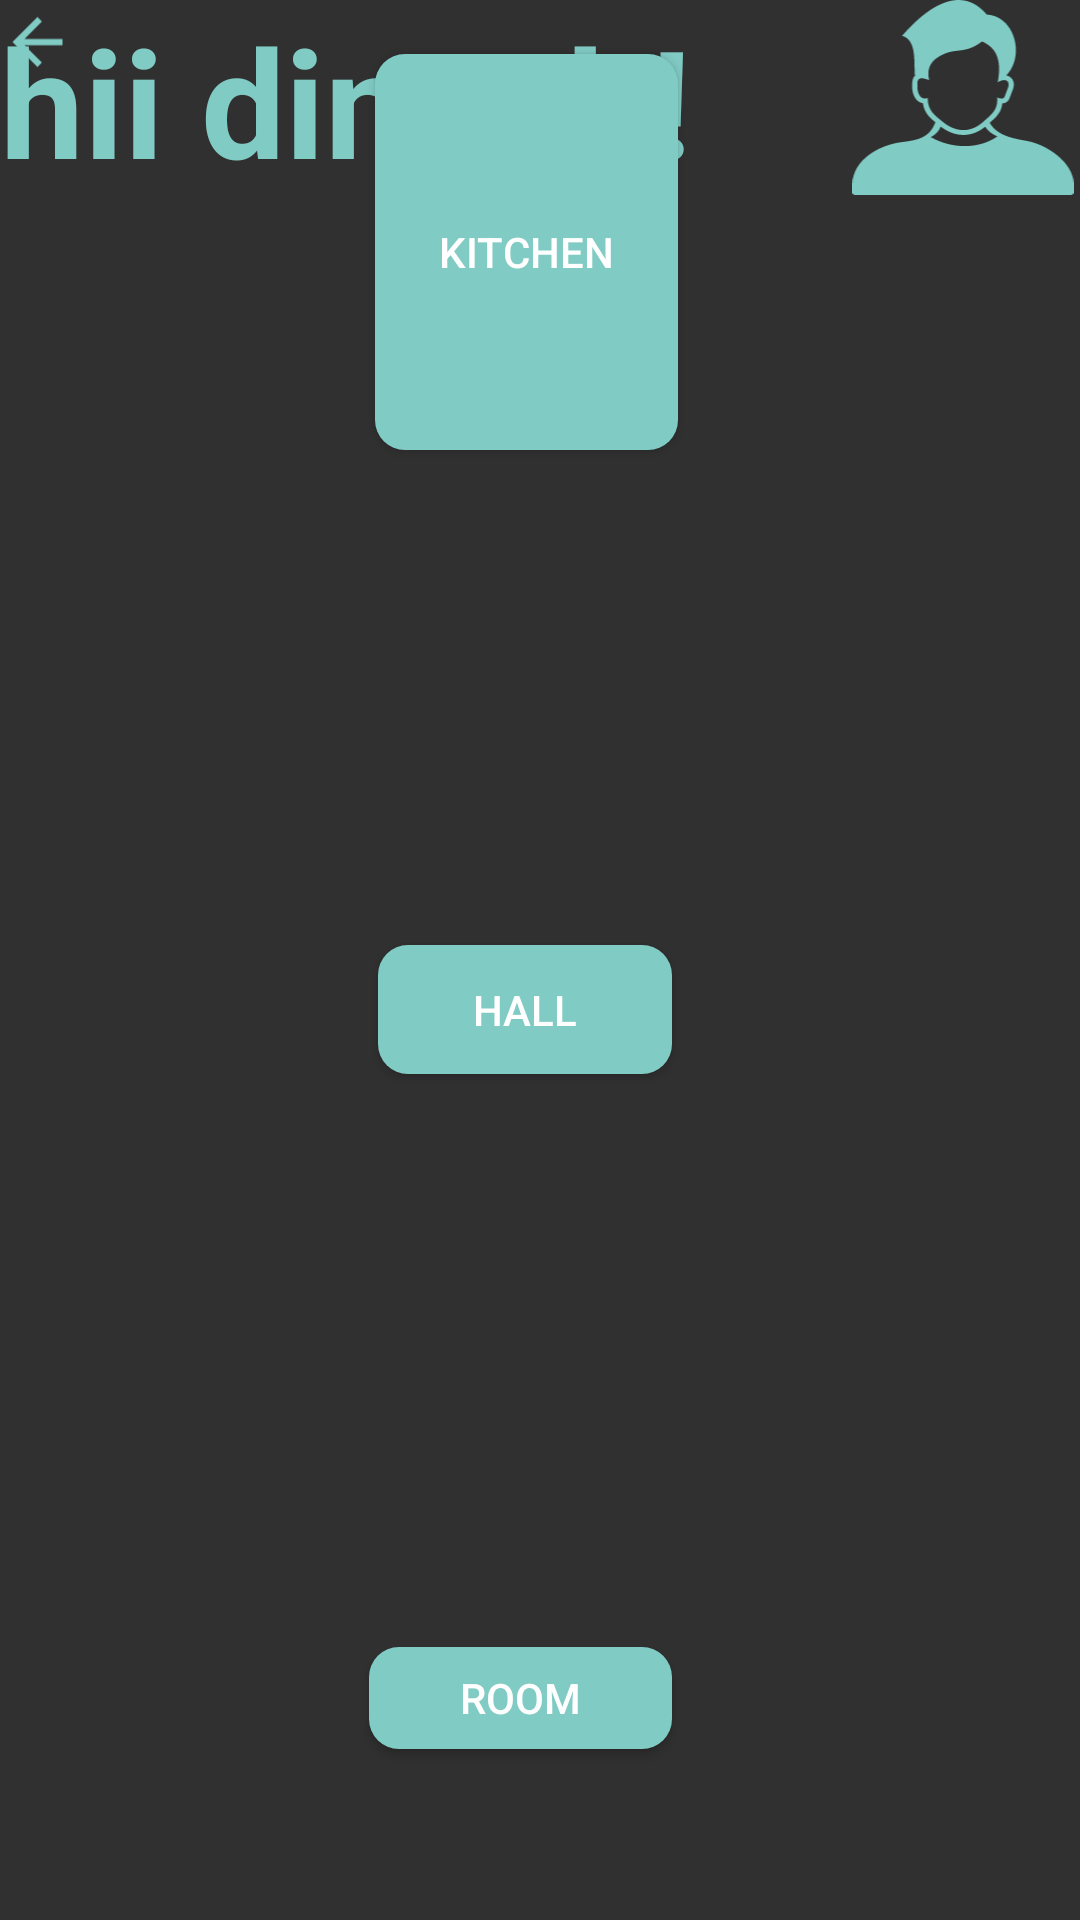

Icons on this 1080px x 1920px Android screen, each with its box as [x1=x1, y1=y1, x2=x2, y2=y2]:
user male: [x1=852, y1=0, x2=1074, y2=195]
